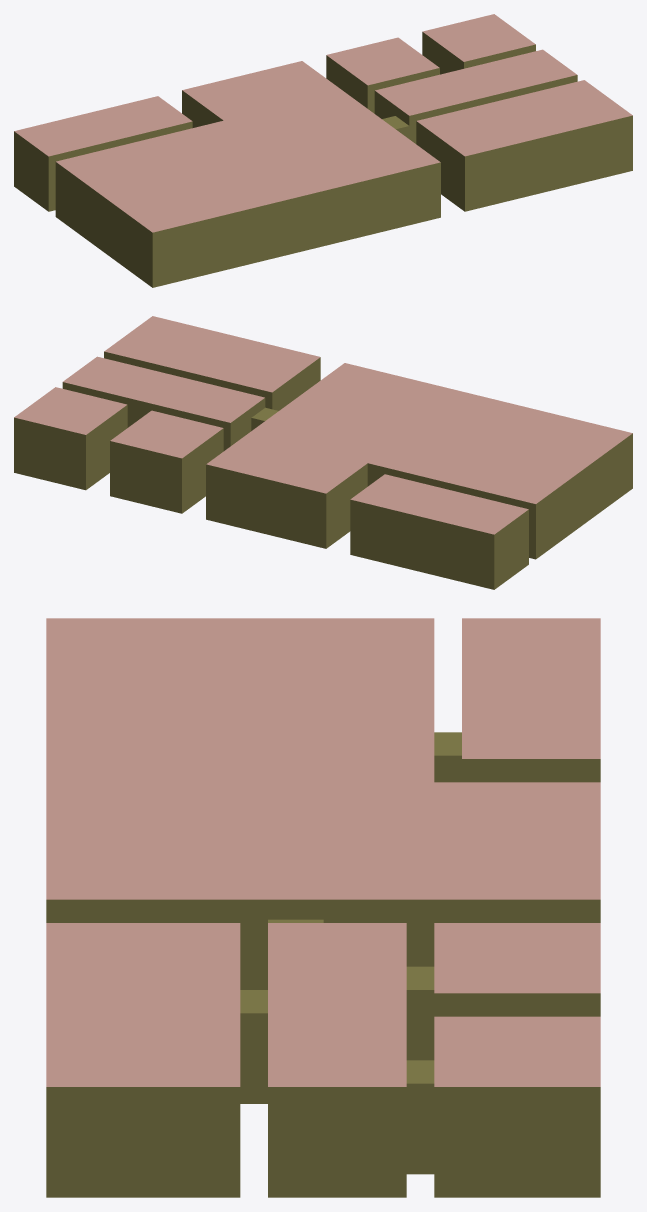
File: appartment.fbx
3 views of the same model, one above another, from view 1: azimuth 30°, elevation 25°; view 2: azimuth 150°, elevation 25°; view 3: azimuth 270°, elevation 25° (orthographic). The views are drawn at different scales.
Visible parts, largest first — view 1: Appartment; view 2: Appartment; view 3: Appartment.
Boxes of the visible parts, bbox=[...] form: Appartment: bbox=[14, 14, 632, 287]; Appartment: bbox=[14, 316, 632, 589]; Appartment: bbox=[46, 618, 600, 1197].
Bounding box in the file's own units: 3636 × 400 × 1818.
